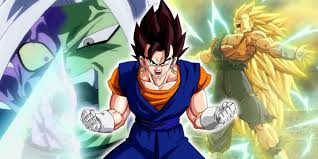Vegito: (128, 5, 187, 80)
